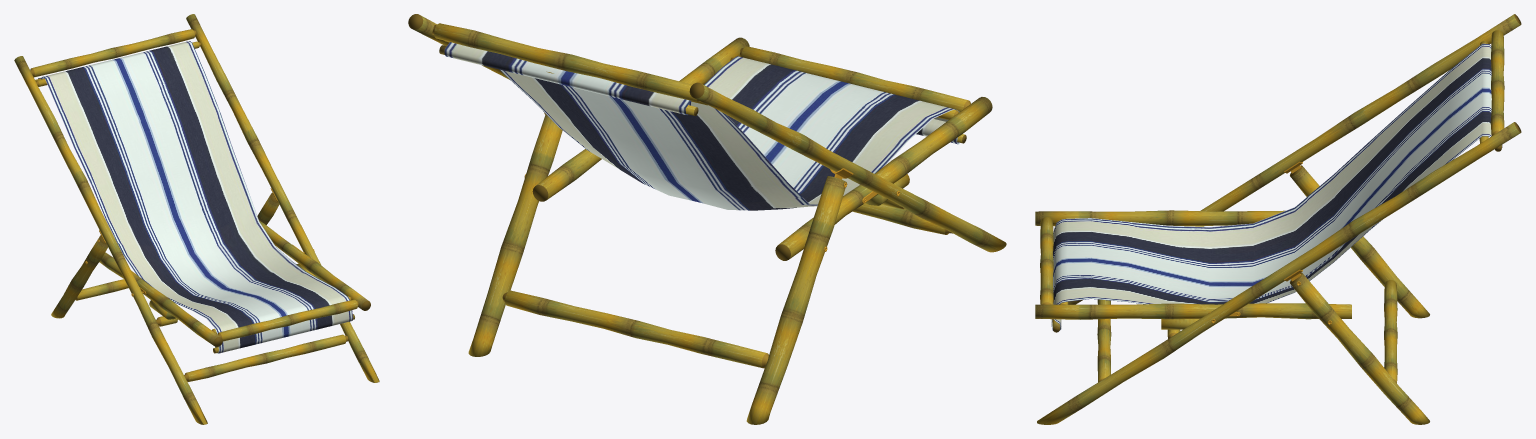
The picture shows the model from 3 angles, left to right: view 1: azimuth 30°, elevation 25°; view 2: azimuth 150°, elevation 25°; view 3: azimuth 270°, elevation 25°; orthographic projection. The views are drawn at different scales.
Parts seen in each view (by area): view 1: Cylinder.010; view 2: Cylinder.010; view 3: Cylinder.010.
Part boxes in pixels (x1,y1,x2,y2): Cylinder.010: (14,14,379,424); Cylinder.010: (408,14,1006,424); Cylinder.010: (1035,14,1521,424).
Size of the model in its own units: 7.72 by 9.38 by 13.78.
6 materials, 5 textured.
